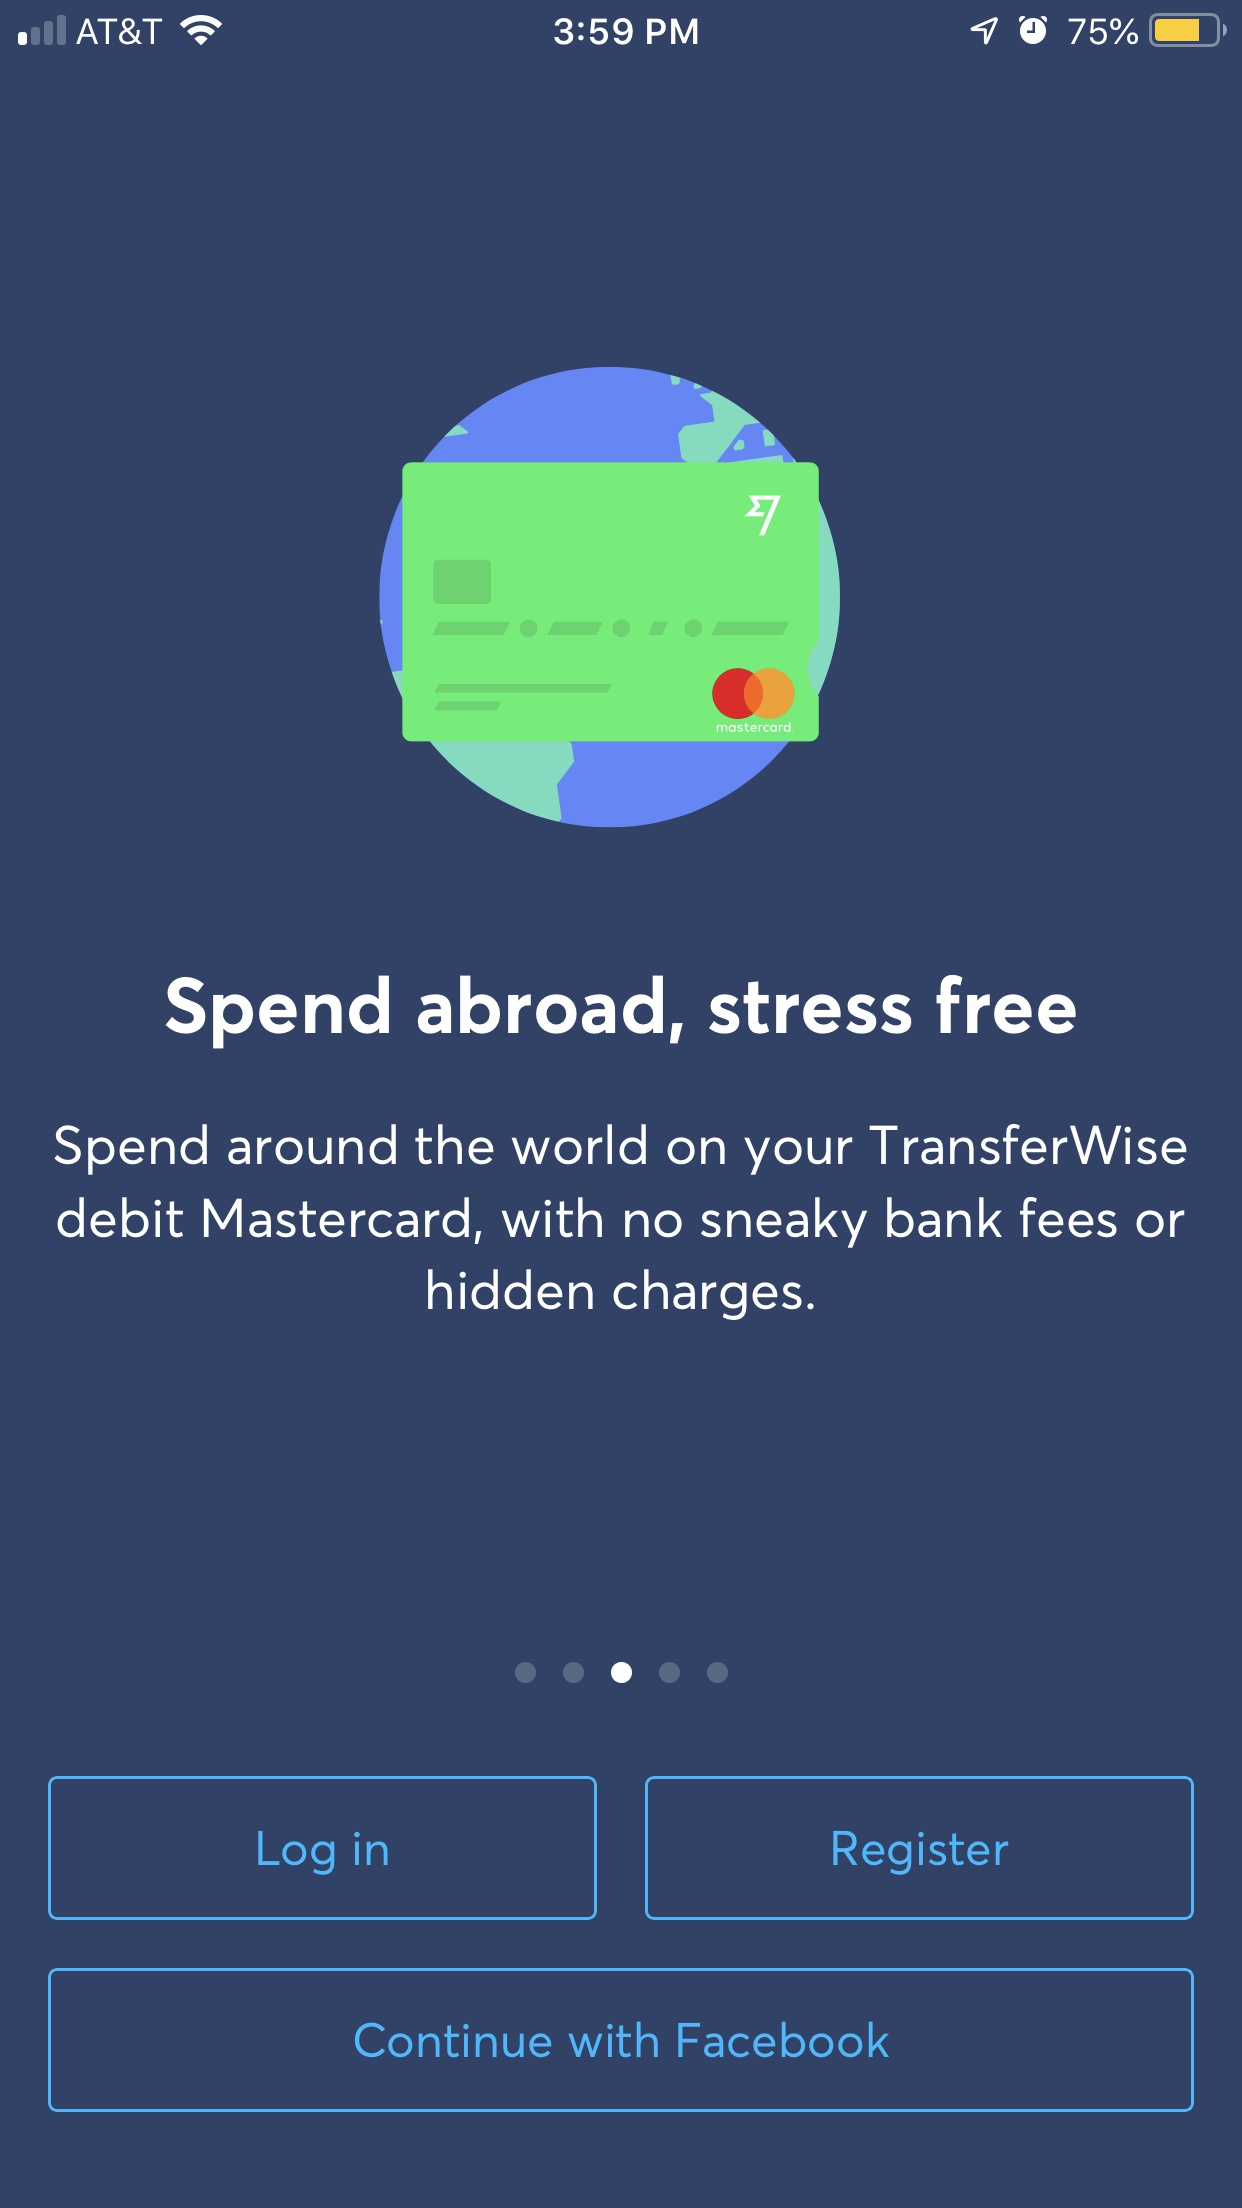Image: (378, 365, 842, 830)
PageIndicator: (516, 1661, 729, 1685)
Text: (55, 1124, 1187, 1322), (165, 974, 1077, 1051)
TextButton: (49, 1967, 1195, 2112), (645, 1774, 1195, 1921), (49, 1774, 597, 1921)
UpperTaskBar: (2, 2, 1242, 49)
